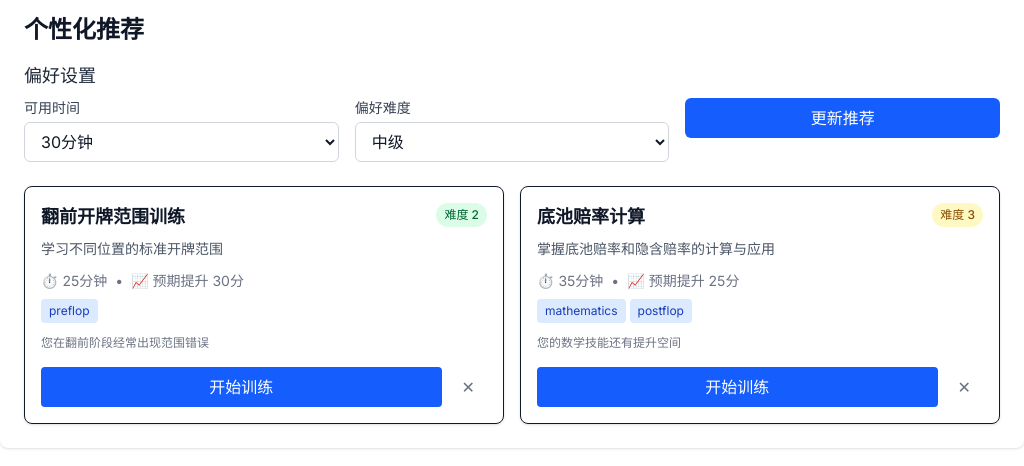
个性化UI组件测试 › PersonalizationDashboard组件 › 应该处理推荐忽略
Expected: the heading "翻前开牌范围训练" is shown, x1=41 y1=203 x2=185 y2=231
Click the button named "忽略推荐" at {"x": 468, "y": 387}, box x1=450 y1=367 x2=487 y2=407
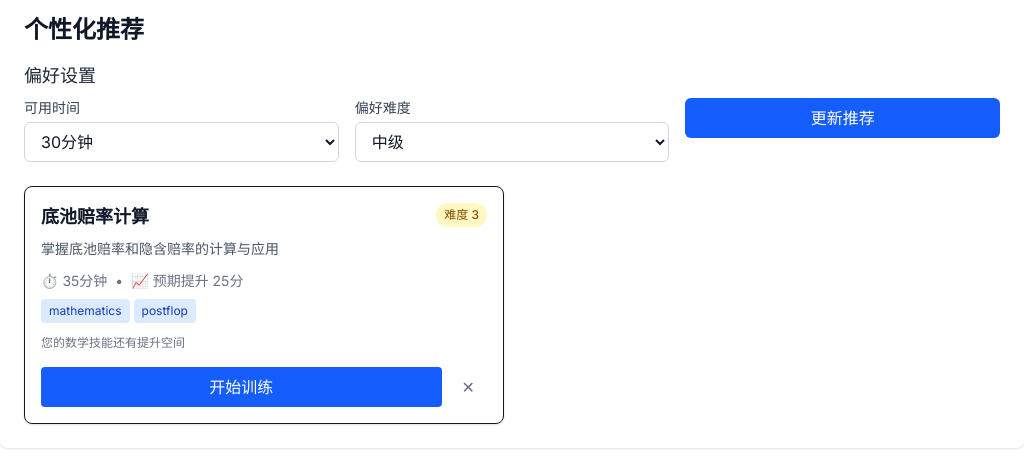
Expected: the heading "翻前开牌范围训练" is gone
